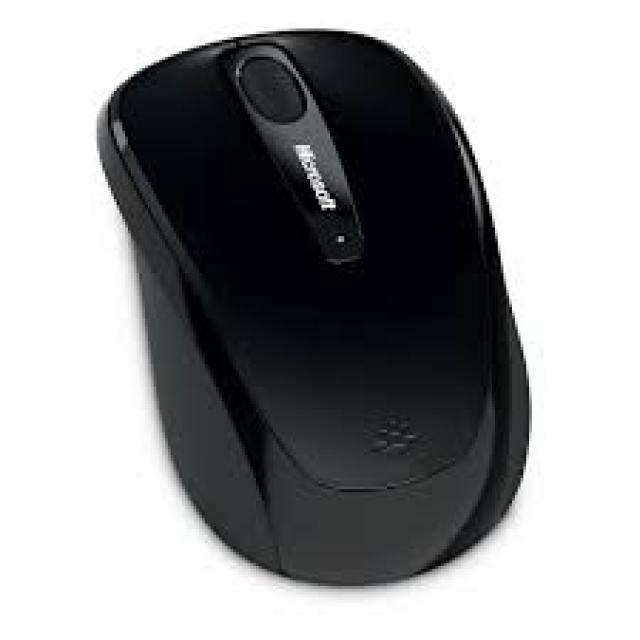mouse: (65, 31, 569, 581)
